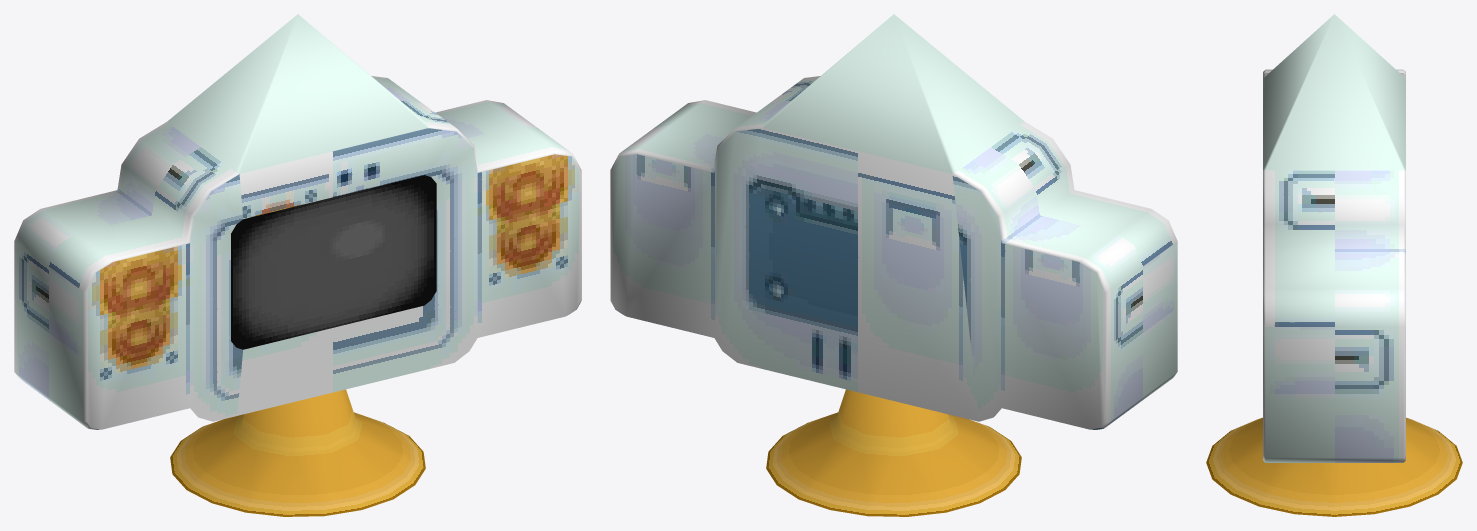
Rendered from int_snw_tv.dae.
3 renders of one model, left to right at view 1: azimuth 30°, elevation 25°; view 2: azimuth 150°, elevation 25°; view 3: azimuth 270°, elevation 25°, orthographic.
Visible parts, largest first — view 1: int_snw_tv; view 2: int_snw_tv; view 3: int_snw_tv.
Part boxes in pixels (x1,y1,x2,y2): int_snw_tv: [14, 14, 581, 516]; int_snw_tv: [610, 14, 1177, 516]; int_snw_tv: [1206, 14, 1462, 516].
Bounding box in the file's own units: 55.46 × 47.75 × 24.76.
Materials: 4 (4 with a texture image).
